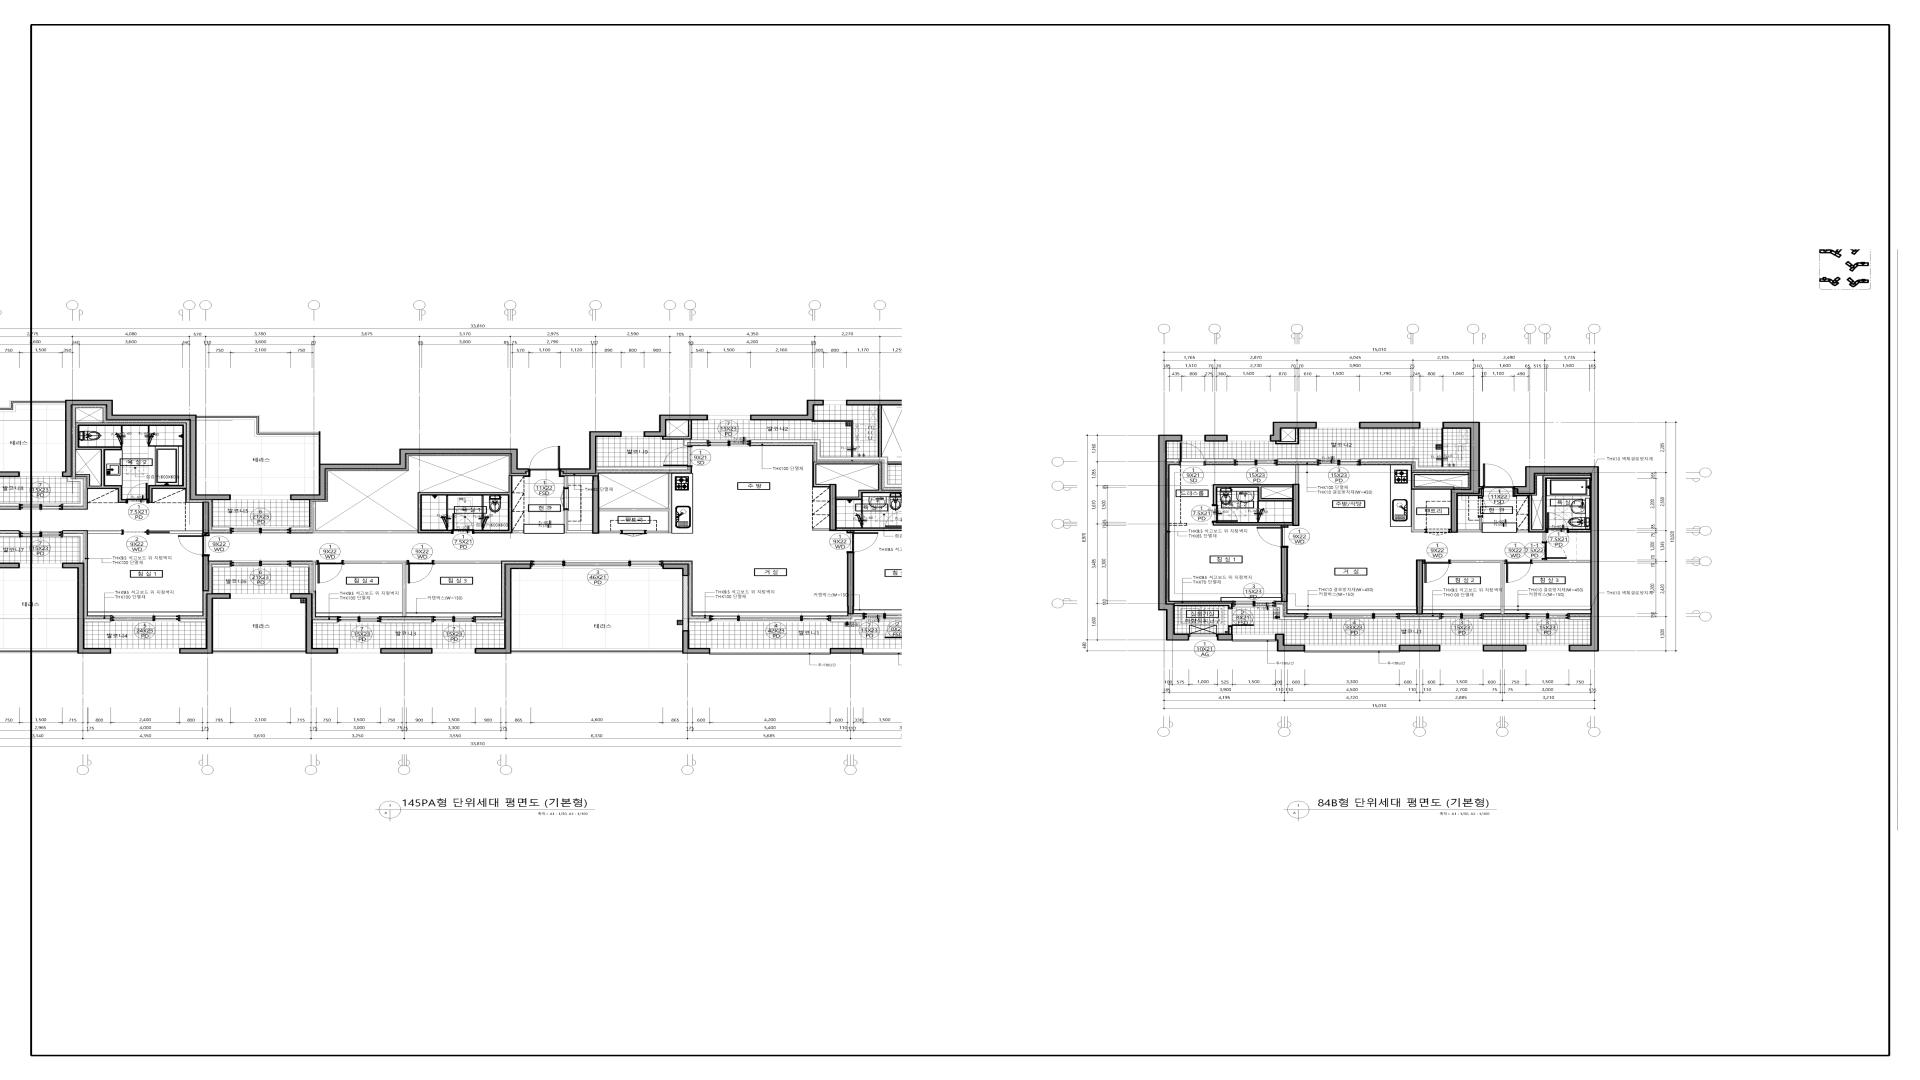door: (530, 446, 560, 477), (1482, 463, 1514, 489), (178, 534, 210, 556), (847, 531, 878, 554), (1257, 526, 1288, 547), (1423, 559, 1451, 583), (1505, 559, 1532, 583), (406, 560, 434, 584), (1179, 442, 1205, 465), (316, 560, 343, 584), (918, 472, 944, 496), (663, 446, 692, 467), (1212, 504, 1238, 522), (451, 513, 473, 534), (1542, 542, 1567, 560), (885, 621, 911, 638), (885, 510, 911, 527), (127, 483, 148, 504), (1547, 513, 1569, 533), (1425, 529, 1451, 535), (621, 530, 646, 537), (123, 530, 148, 535)
wall: (62, 400, 231, 500), (1514, 467, 1600, 651), (750, 406, 918, 492), (313, 475, 524, 534), (290, 448, 529, 500), (75, 422, 187, 502), (1158, 435, 1189, 641), (196, 415, 320, 464), (942, 456, 969, 654), (475, 563, 531, 654), (812, 462, 911, 510), (62, 563, 111, 654), (1443, 422, 1482, 533), (847, 400, 916, 462), (600, 473, 673, 533), (1518, 476, 1590, 533), (1411, 472, 1469, 533), (343, 560, 406, 616), (179, 593, 231, 654), (290, 593, 339, 654), (1451, 560, 1505, 615), (911, 407, 968, 456), (560, 431, 622, 475), (1213, 484, 1292, 505), (750, 400, 824, 421), (644, 414, 708, 438), (683, 576, 709, 630), (1361, 459, 1470, 469), (662, 421, 707, 446), (1270, 422, 1317, 442), (682, 630, 711, 654), (0, 401, 65, 411), (512, 649, 682, 653), (63, 533, 84, 563), (564, 510, 592, 533), (63, 477, 84, 506), (1275, 634, 1305, 651), (847, 554, 855, 615), (1275, 604, 1304, 620), (592, 476, 600, 534), (1280, 547, 1288, 601), (1360, 422, 1420, 429), (1275, 429, 1299, 444), (1458, 517, 1482, 533), (829, 484, 837, 531), (1416, 559, 1423, 615), (662, 563, 690, 576), (214, 649, 306, 653), (380, 647, 433, 654), (1213, 522, 1292, 526), (0, 649, 78, 653), (1175, 603, 1233, 608), (1482, 645, 1527, 651), (837, 527, 910, 531), (907, 616, 960, 621), (1292, 484, 1299, 526), (202, 556, 210, 591), (1399, 645, 1440, 651), (434, 560, 501, 564), (202, 501, 210, 533), (596, 467, 688, 469), (829, 647, 864, 654), (831, 616, 864, 622), (149, 530, 202, 534), (381, 620, 433, 624), (1204, 435, 1228, 442), (1532, 560, 1590, 563), (88, 530, 123, 534), (313, 560, 316, 591), (1484, 617, 1526, 620), (476, 620, 504, 624), (1399, 617, 1440, 620), (1217, 634, 1233, 641), (1278, 459, 1317, 462), (84, 618, 111, 622), (179, 618, 206, 622), (313, 620, 338, 624), (1569, 529, 1590, 533), (906, 649, 922, 654), (1205, 459, 1234, 462), (0, 502, 18, 506), (0, 533, 18, 537), (212, 526, 231, 530), (291, 526, 310, 530), (944, 488, 960, 492), (1569, 617, 1590, 620), (291, 564, 310, 567), (906, 638, 911, 647), (564, 476, 568, 488), (212, 564, 229, 567), (812, 529, 829, 531), (1228, 626, 1233, 634), (1543, 533, 1547, 542), (1167, 459, 1179, 462), (600, 531, 621, 533), (1480, 496, 1482, 497)
window: (531, 560, 662, 568), (709, 615, 831, 621), (1305, 645, 1399, 653), (711, 649, 829, 654), (1304, 613, 1399, 620), (111, 615, 179, 621), (229, 560, 291, 567), (231, 527, 291, 534), (18, 502, 63, 510), (707, 439, 750, 447), (231, 495, 290, 500), (231, 593, 290, 599), (1234, 459, 1278, 465), (1317, 459, 1361, 465), (864, 613, 907, 620), (20, 531, 63, 538), (338, 616, 381, 622), (433, 616, 476, 622), (1440, 613, 1484, 620), (1526, 613, 1569, 620), (1233, 600, 1275, 607), (1233, 634, 1275, 641), (1440, 645, 1482, 651), (1527, 645, 1569, 651), (111, 649, 179, 653), (1317, 422, 1358, 429), (1228, 435, 1270, 440), (864, 649, 906, 654), (20, 563, 62, 568), (708, 415, 750, 419), (20, 472, 62, 476), (433, 649, 475, 653), (339, 649, 380, 653), (1420, 422, 1443, 429), (1189, 634, 1217, 640), (922, 647, 949, 653), (1183, 435, 1204, 440), (916, 458, 942, 462), (824, 401, 847, 405), (622, 433, 644, 436)
